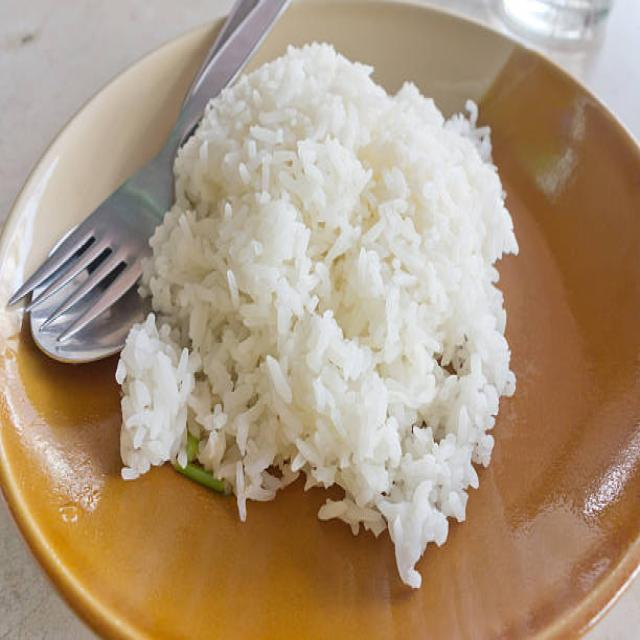Rice: (116, 44, 521, 591)
